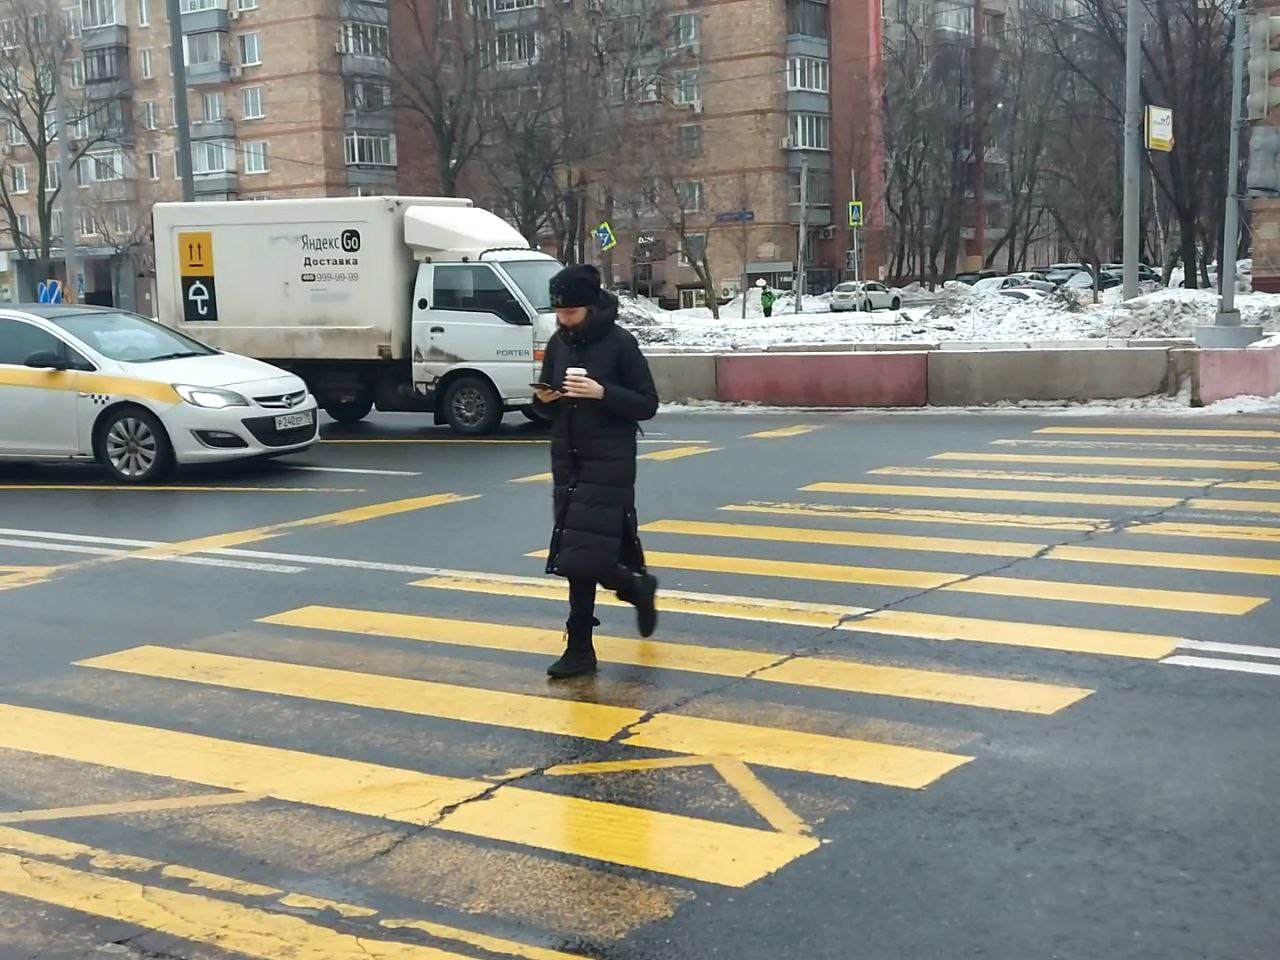sombie: (502, 255, 708, 689)
